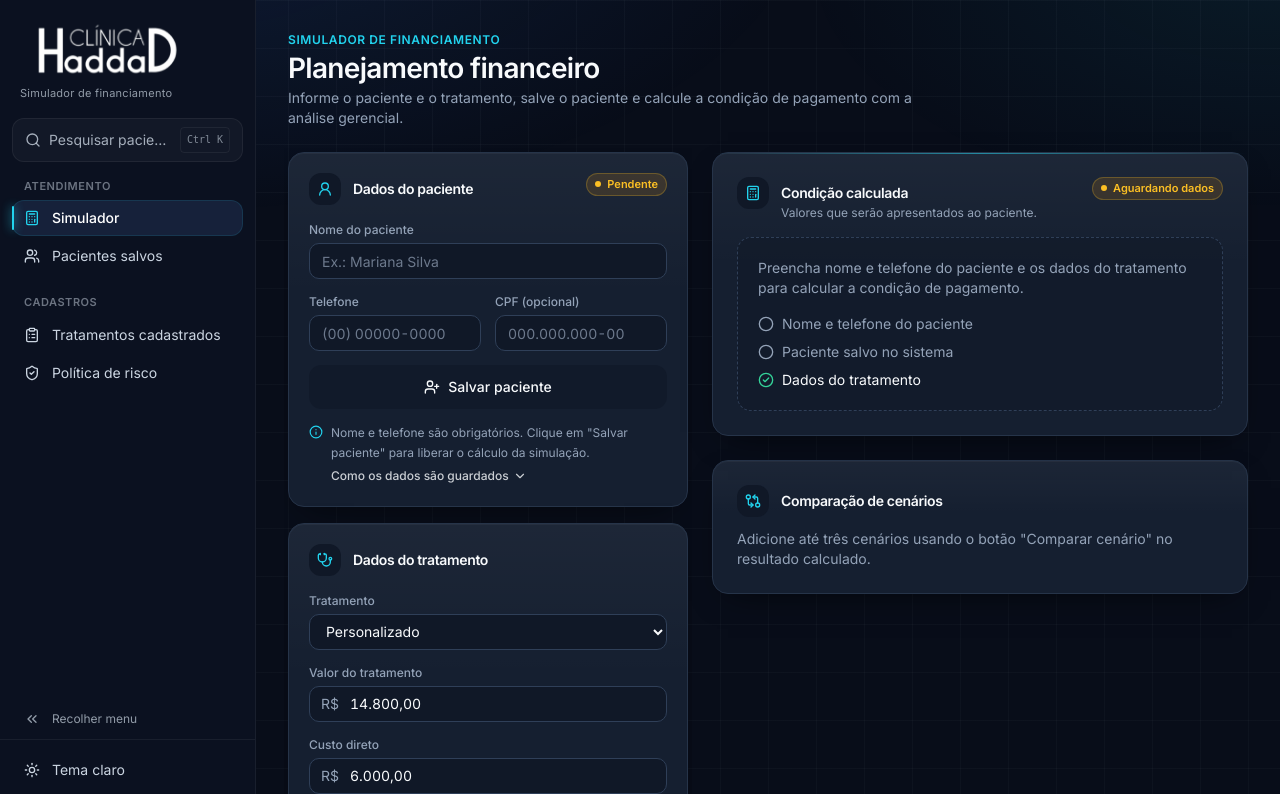
Test: cenário 11 — app sempre em modo gerencial › calcula e salva o paciente normalmente sem informar CPF (campo opcional)
In the field labelled "Nome do paciente": (488, 261) left=309, top=243, right=667, bottom=279, type "Mariana Silva"
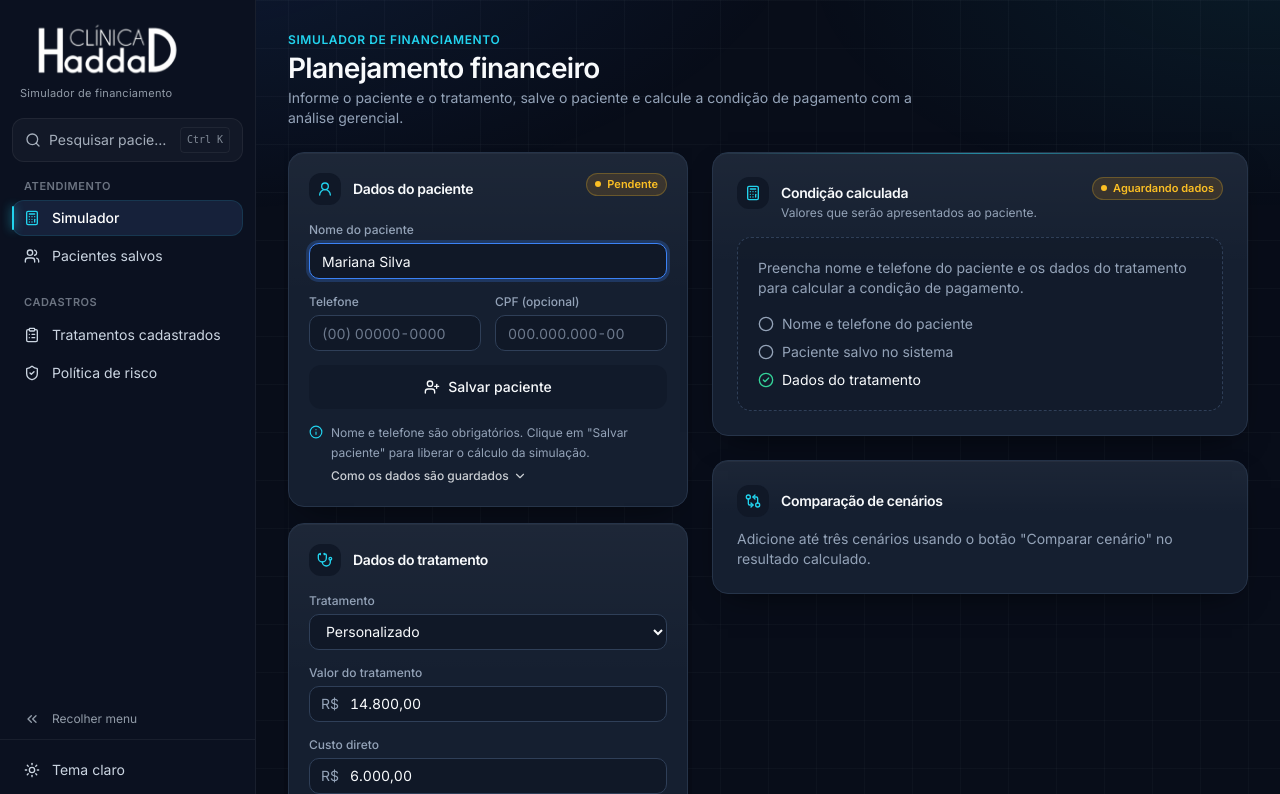
In the field labelled "Telefone": (395, 333) left=309, top=315, right=481, bottom=351, type "11987654321"
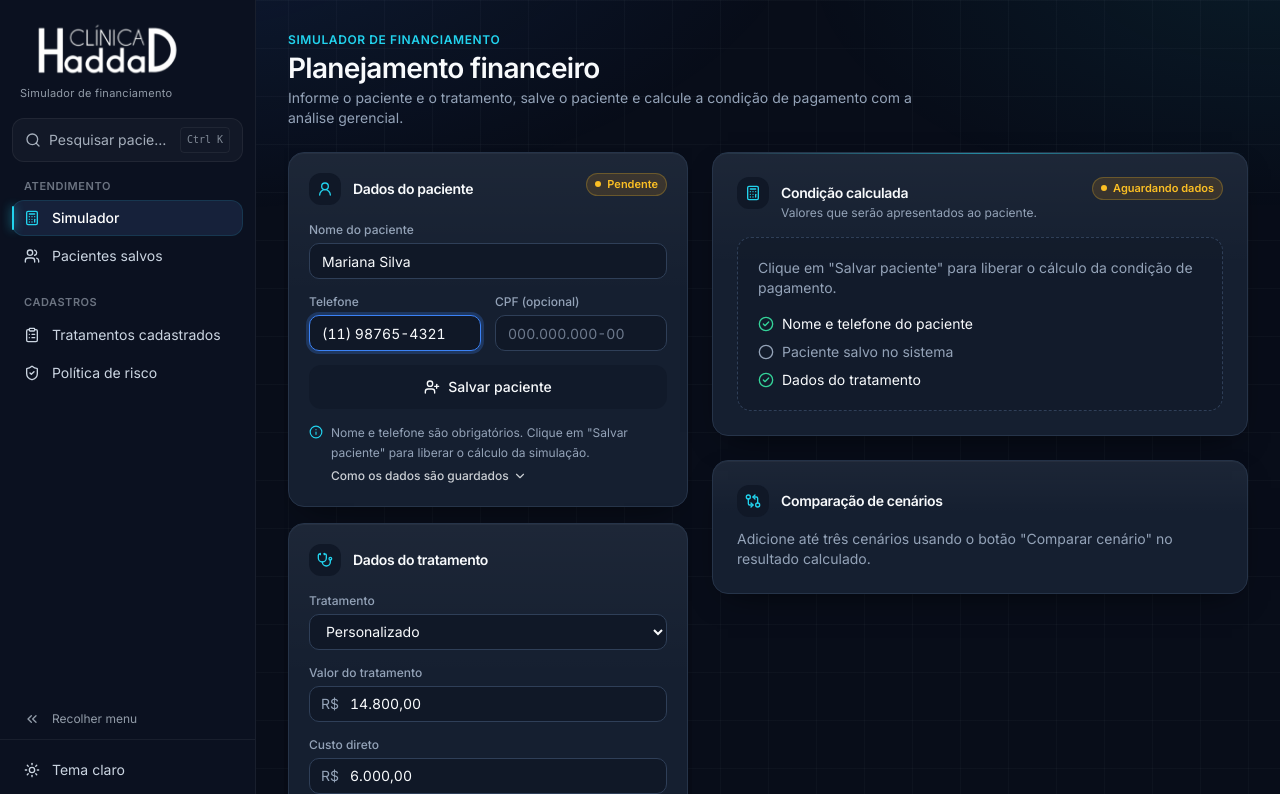
Click the button "Salvar paciente": (488, 387) left=309, top=365, right=667, bottom=409
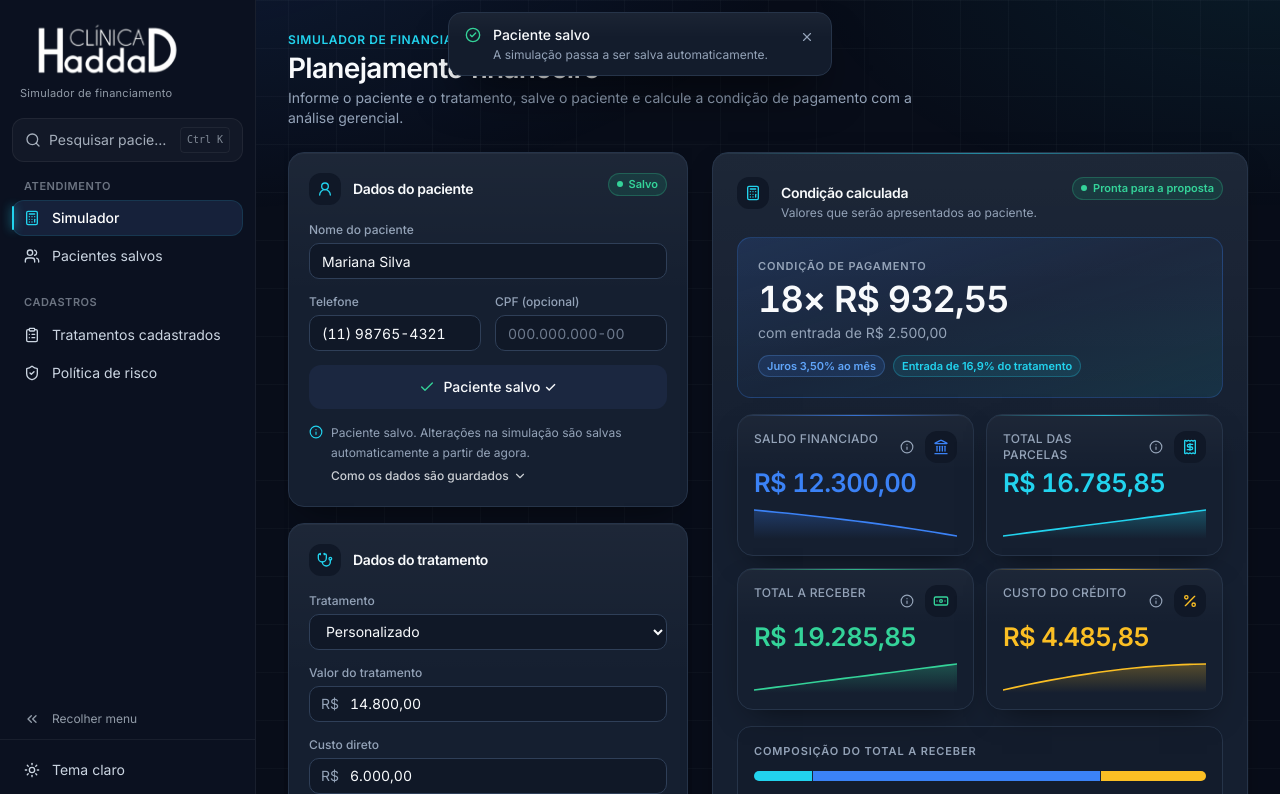
expect the button "Paciente salvo ✓" is shown: met, box left=309, top=365, right=667, bottom=409
expect the text "18× R$ 932,55" is shown: met, box left=758, top=276, right=1009, bottom=320
